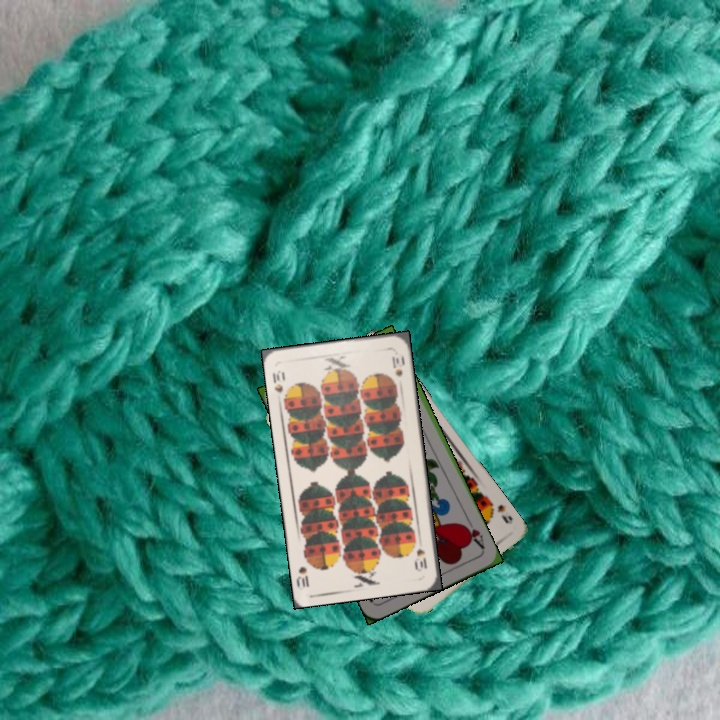HA: (459, 514, 488, 552)
S10: (268, 366, 288, 396), (412, 544, 430, 571)
S9: (484, 496, 515, 527)
